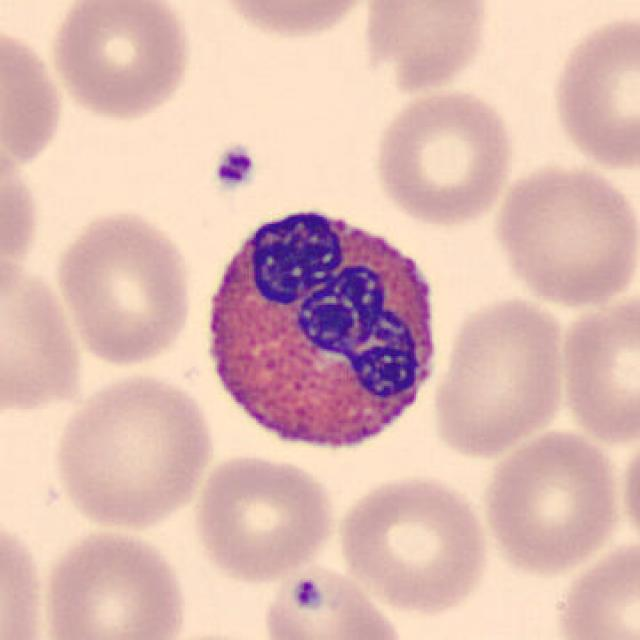Eosinophil: (192, 190, 452, 471)
Platelets: (210, 139, 260, 194), (281, 573, 338, 614)
RBC: (48, 368, 217, 532), (50, 205, 197, 372), (428, 293, 570, 462), (332, 469, 492, 617), (476, 425, 626, 578), (489, 159, 638, 310), (368, 85, 517, 229), (188, 450, 338, 586), (44, 0, 195, 123), (38, 525, 190, 640), (546, 9, 638, 176), (0, 250, 85, 419), (554, 289, 640, 447), (356, 0, 494, 95), (259, 560, 408, 640), (0, 21, 68, 173), (551, 534, 640, 640), (0, 130, 43, 310), (207, 0, 380, 42), (0, 508, 50, 640), (617, 425, 640, 557), (142, 627, 282, 640)
